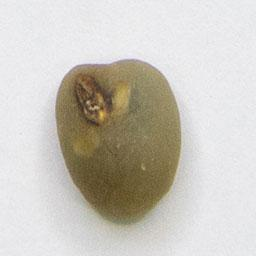premium: (51, 55, 183, 222)
